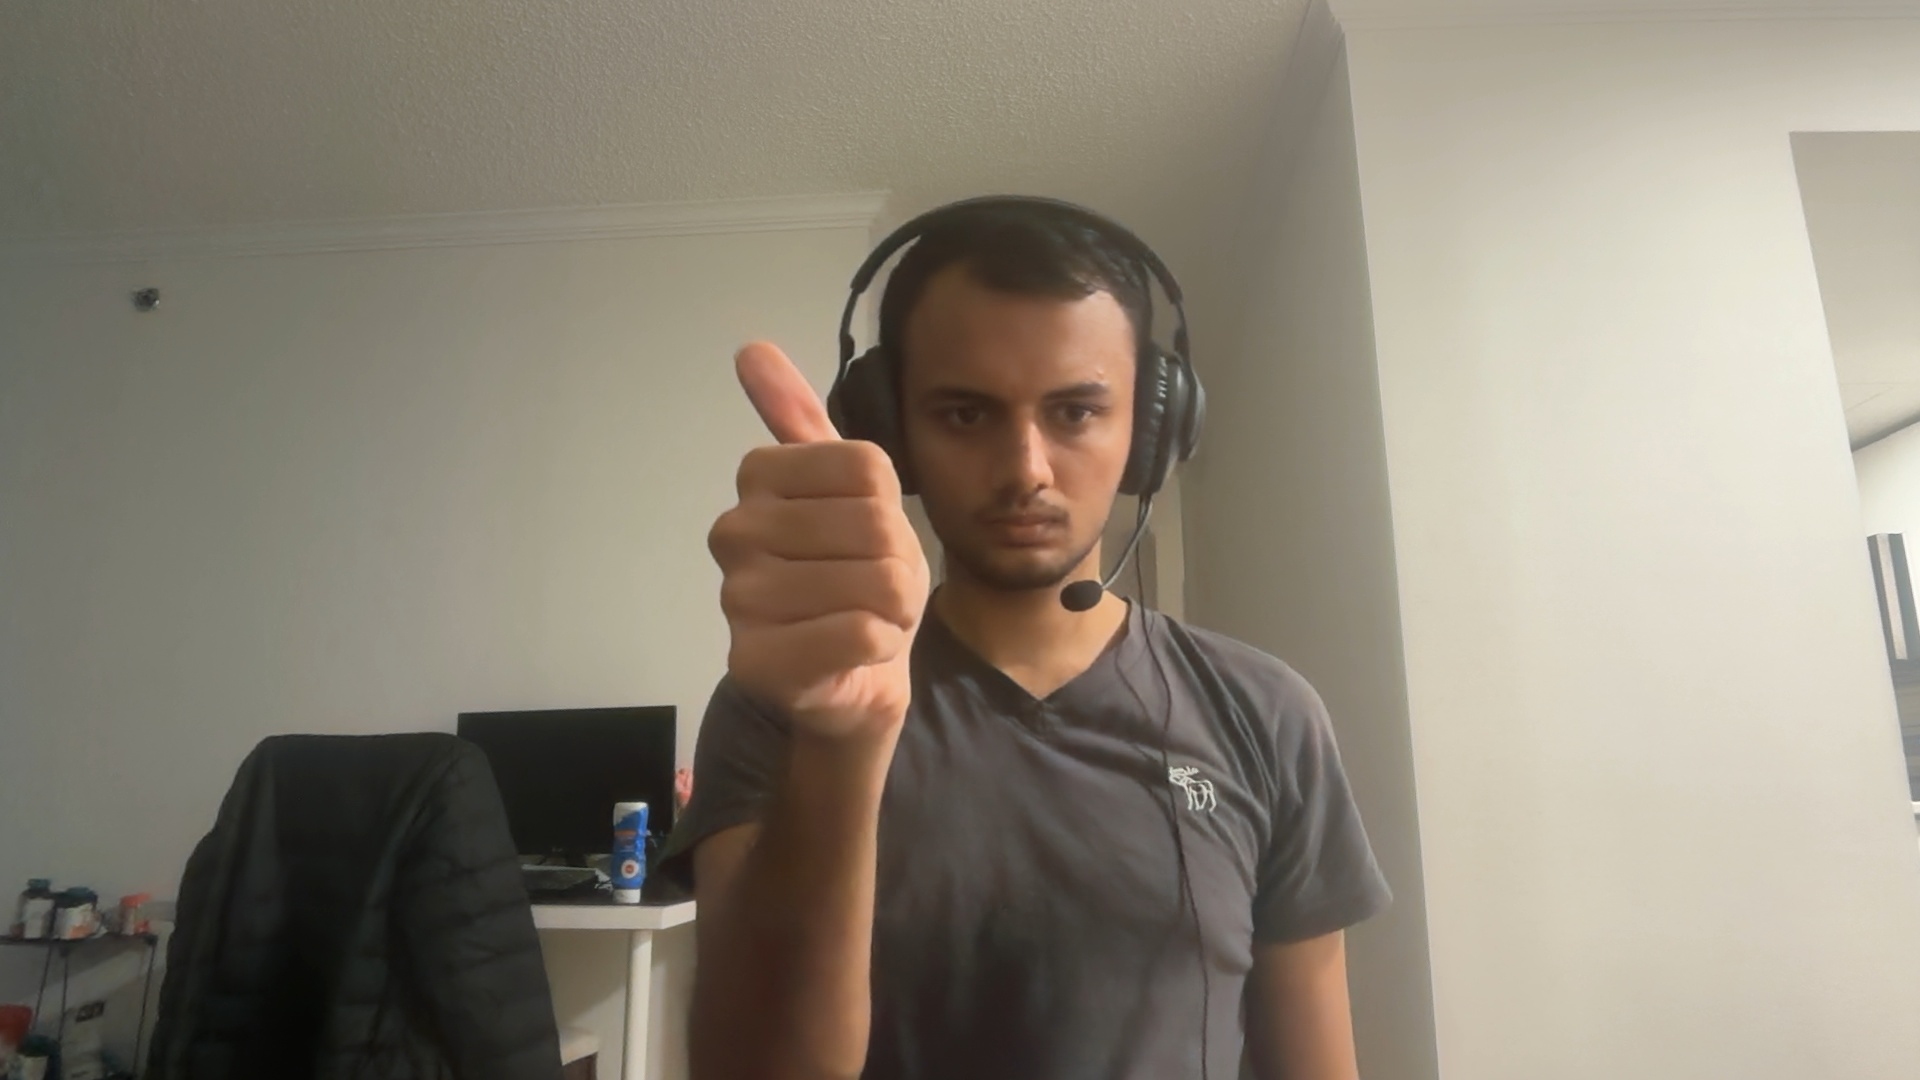thumbsup: (708, 342, 932, 736)
